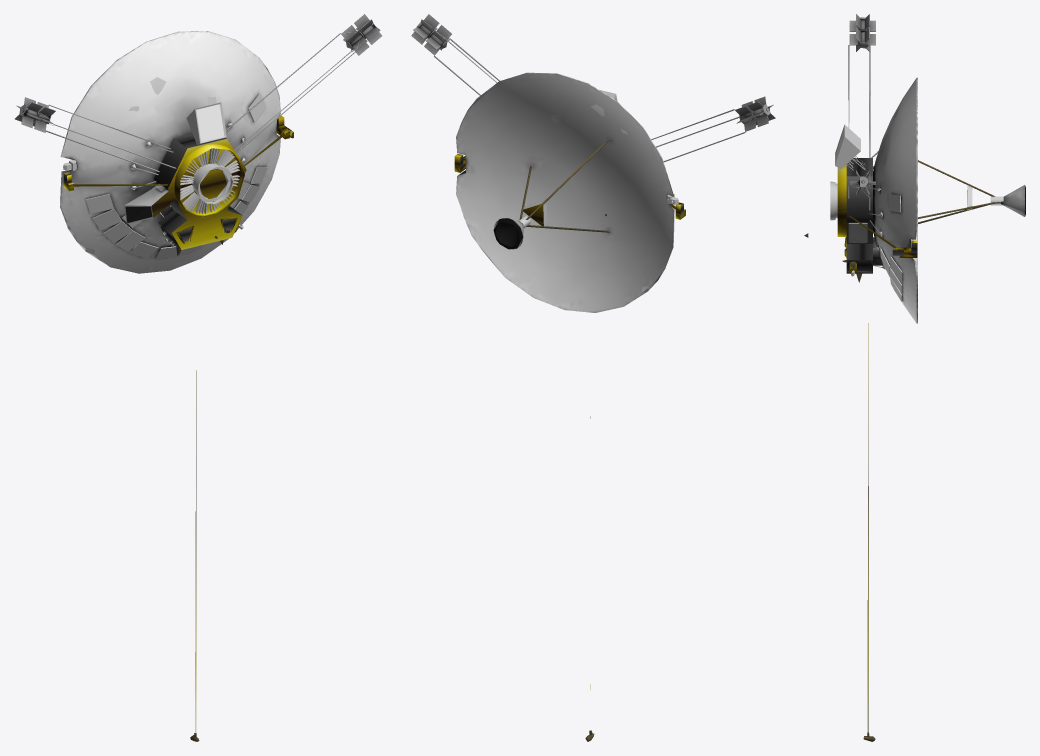
File: space-pioneer-10.glb
3 renders of one model, left to right at view 1: azimuth 30°, elevation 25°; view 2: azimuth 150°, elevation 25°; view 3: azimuth 270°, elevation 25°, orthographic. The views are drawn at different scales.
Parts seen in each view (by area): view 1: AO_dish, Norm_silver, Foil_gold, Foil_silver, AO_rtg, Tex_02, Foil_trans; view 2: AO_dish, AO_rtg, Tex_02, Tex_black, Foil_gold; view 3: AO_dish, Foil_silver, Norm_silver, Foil_gold, Tex_02, AO_rtg, Tex_01.
Boxes of the visible parts, x1=… form: AO_dish: x1=60, y1=31, x2=280, y2=273; Norm_silver: x1=63, y1=93, x2=267, y2=259; Foil_gold: x1=63, y1=115, x2=293, y2=732; Foil_silver: x1=63, y1=118, x2=292, y2=249; AO_rtg: x1=15, y1=14, x2=382, y2=132; Tex_02: x1=34, y1=32, x2=359, y2=741; Foil_trans: x1=196, y1=104, x2=224, y2=141; AO_dish: x1=456, y1=72, x2=674, y2=312; AO_rtg: x1=411, y1=14, x2=775, y2=131; Tex_02: x1=434, y1=32, x2=756, y2=741; Tex_black: x1=493, y1=218, x2=523, y2=249; Foil_gold: x1=454, y1=154, x2=685, y2=689; AO_dish: x1=873, y1=77, x2=1024, y2=323; Foil_silver: x1=846, y1=158, x2=917, y2=273; Norm_silver: x1=830, y1=124, x2=1003, y2=301; Foil_gold: x1=837, y1=165, x2=967, y2=732; Tex_02: x1=804, y1=35, x2=999, y2=741; AO_rtg: x1=849, y1=14, x2=875, y2=195; Tex_01: x1=848, y1=223, x2=867, y2=242.
Bounding box in the file's own units: 4.52 × 8.25 × 2.54.
10 materials, 8 textured.
